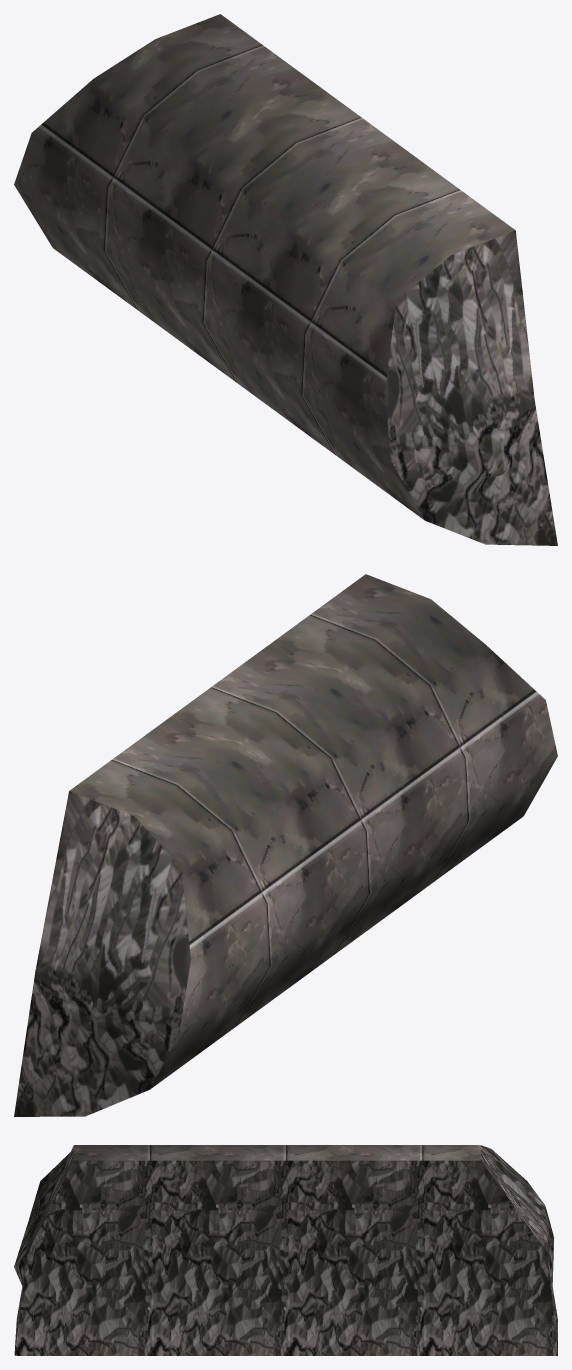
Rendered from INST_SM_DEBRIS_BLOCK_LARGEB.fbx.
3 views of the same model, one above another, from view 1: azimuth 30°, elevation 25°; view 2: azimuth 150°, elevation 25°; view 3: azimuth 270°, elevation 25° (orthographic). The views are drawn at different scales.
Visible parts, largest first — view 1: INST_SM_DEBRIS_BLOCK_LARGEB; view 2: INST_SM_DEBRIS_BLOCK_LARGEB; view 3: INST_SM_DEBRIS_BLOCK_LARGEB.
Boxes of the visible parts, x1,y1,x2,y2 form: INST_SM_DEBRIS_BLOCK_LARGEB: (14,14,557,545); INST_SM_DEBRIS_BLOCK_LARGEB: (14,574,557,1116); INST_SM_DEBRIS_BLOCK_LARGEB: (14,1145,557,1355).
Bounding box in the file's own units: 20688 × 35390 × 89248.
2 materials, 2 textured.
